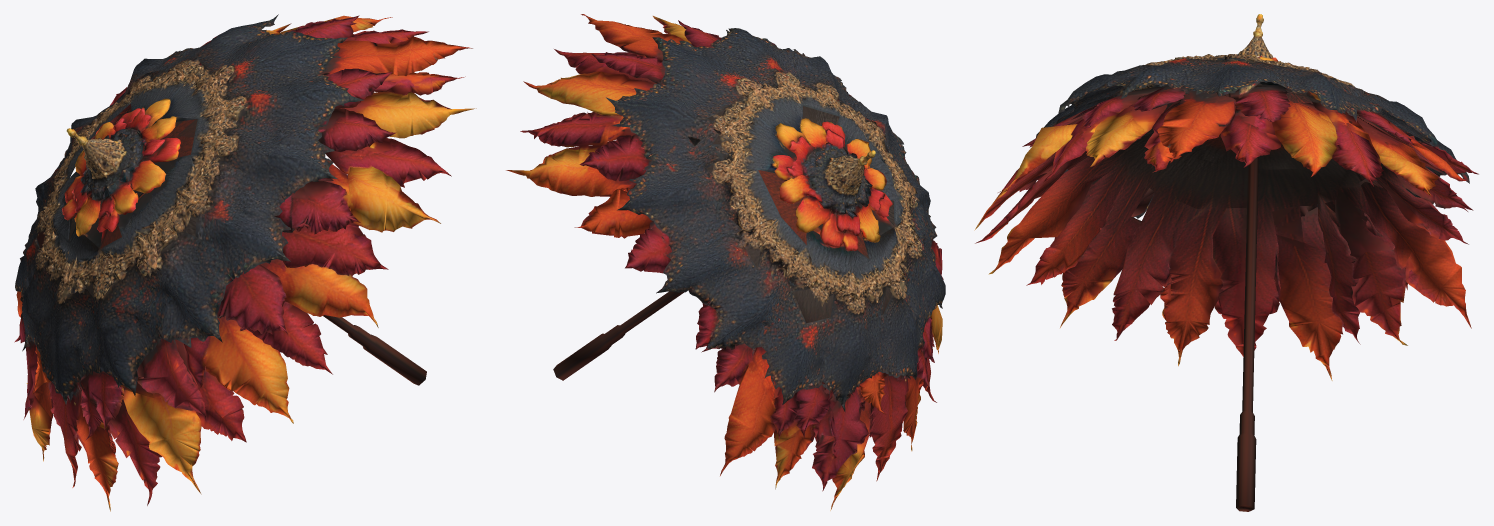
The model's file is ambrela.glb.
3 renders of one model, left to right at view 1: azimuth 30°, elevation 25°; view 2: azimuth 150°, elevation 25°; view 3: azimuth 270°, elevation 25°, orthographic. The views are drawn at different scales.
Visible parts, largest first — view 1: Model; view 2: Model; view 3: Model.
Boxes of the visible parts, box(x1,y1,x2,y2) form: Model: box(14, 14, 476, 511); Model: box(506, 14, 945, 510); Model: box(974, 14, 1478, 511).
Bounding box in the file's own units: 0.8865 × 0.8904 × 1.
1 material, 1 textured.
